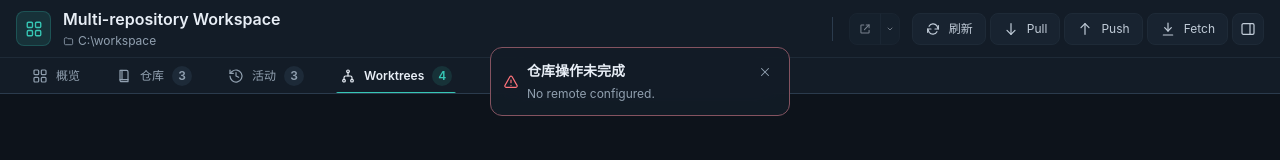
Test: RepositoryHeader › shows and dismisses repository command error feedback in every Workspace tab
This screenshot has width=1280, height=160.
Check: the number of messages with class "toast" is 1, box [490,47,790,116]
Check: the message with class "toast" shows "No remote configured.", box [527,86,655,101]
Click the button named "关闭仓库操作提示".
click(765, 72)  # box [749,56,781,88]
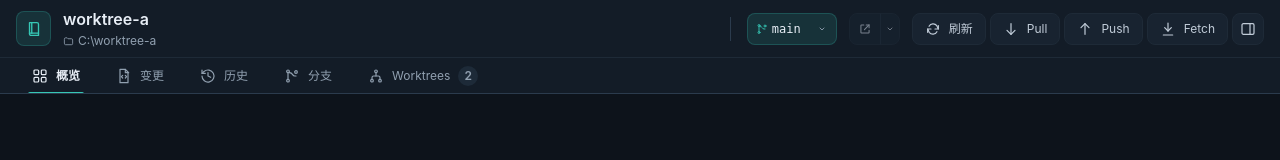
Check: the message with class "toast" is gone
